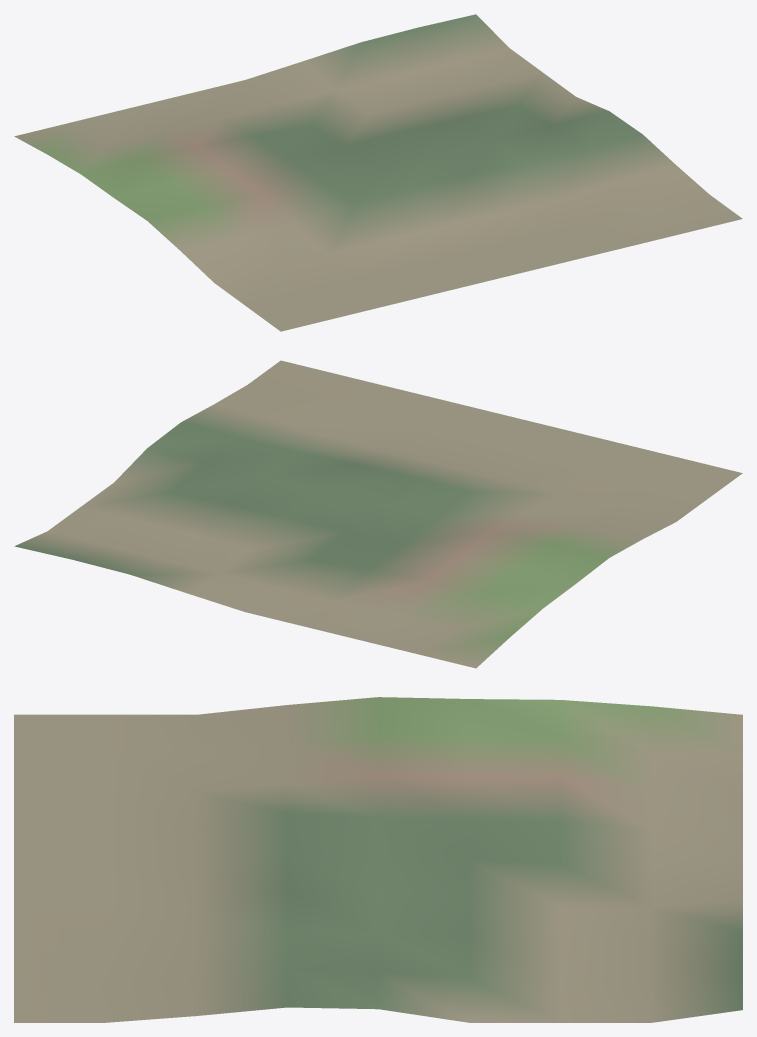
The picture shows the model from 3 angles, top to bottom: view 1: azimuth 30°, elevation 25°; view 2: azimuth 150°, elevation 25°; view 3: azimuth 270°, elevation 25°; orthographic projection. The views are drawn at different scales.
Parts seen in each view (by area): view 1: Lo; view 2: Lo; view 3: Lo.
Boxes of the visible parts, x1=… form: Lo: x1=14, y1=14, x2=742, y2=331; Lo: x1=14, y1=360, x2=742, y2=668; Lo: x1=14, y1=697, x2=742, y2=1022.
Size of the model in its own units: 256 by 7.04 by 256.
